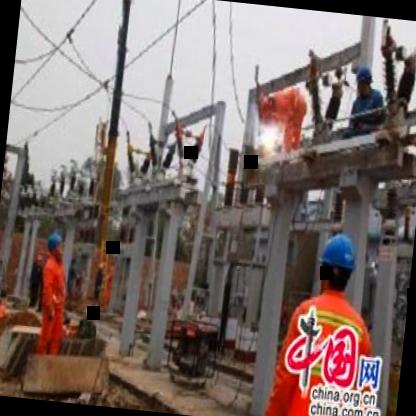helmet: (315, 226, 360, 298), (350, 62, 376, 97), (44, 229, 69, 261)
